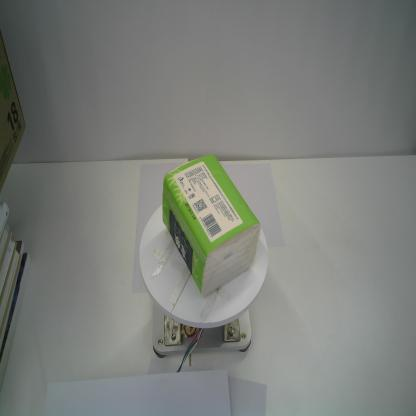Tissue: (160, 152, 262, 300)
